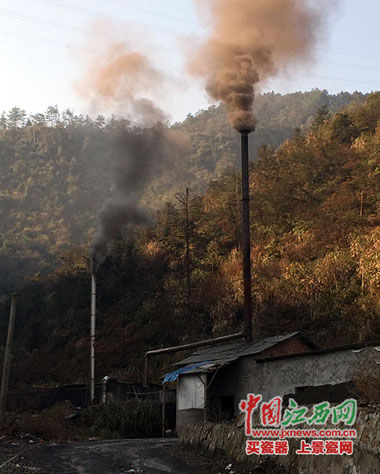dust: (181, 5, 319, 124), (82, 149, 153, 276)
